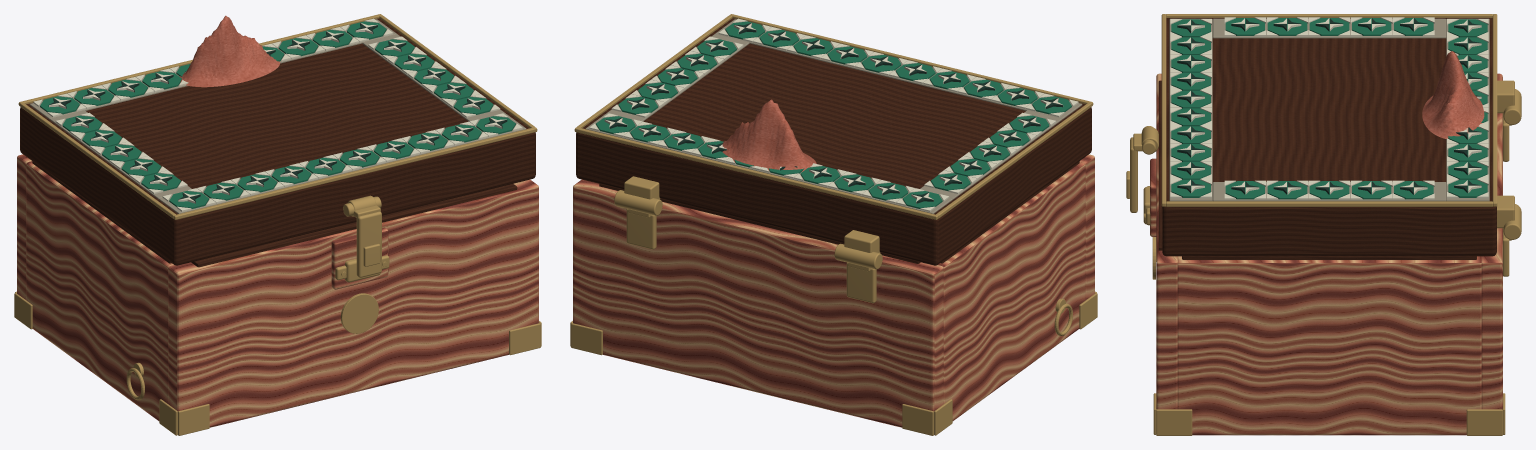
The model's file is morocco.glb.
3 renders of one model, left to right at view 1: azimuth 30°, elevation 25°; view 2: azimuth 150°, elevation 25°; view 3: azimuth 270°, elevation 25°, orthographic. The views are drawn at different scales.
Parts seen in each view (by area): view 1: Rose stone / front, Lid / polished slab, Rose stone / side, Atlas ridge / rear centre eroded massif, Rim / long, Brass / crown long, Rose stone / rear, Rose stone / clasp seat, Latch / lifting hasp, Medallion / uninscribed solid brass, Brass / crown long.001, Tile bed / long (+7 smaller); view 2: Rose stone / rear, Lid / polished slab, Rose stone / side, Atlas ridge / rear centre eroded massif, Brass / crown long.001, Rose stone / front, Brass / crown long, Tile bed / long, Brass / crown side, Tile bed / long.001, Hinge / fixed mount, Hinge / fixed mount.001 (+10 smaller); view 3: Rose stone / side.001, Lid / polished slab, Rose stone / rear, Rose stone / front, Atlas ridge / rear centre eroded massif, Brass / crown side.001, Tile bed / return, Brass / crown side, Tile bed / return.001, Rim / end.001, Brass / crown long, Brass / crown long.001 (+36 smaller).
Boxes of the visible parts, bbox=[...] form: Rose stone / front: bbox=[168, 179, 538, 427]; Lid / polished slab: bbox=[20, 18, 535, 265]; Rose stone / side: bbox=[26, 161, 173, 420]; Atlas ridge / rear centre eroded massif: bbox=[179, 15, 280, 87]; Rim / long: bbox=[191, 184, 517, 267]; Brass / crown long: bbox=[173, 127, 537, 219]; Rose stone / rear: bbox=[17, 154, 31, 299]; Rose stone / clasp seat: bbox=[331, 227, 388, 289]; Latch / lifting hasp: bbox=[356, 211, 381, 277]; Medallion / uninscribed solid brass: bbox=[340, 293, 378, 333]; Brass / crown long.001: bbox=[18, 14, 381, 106]; Tile bed / long: bbox=[159, 114, 526, 213]; Rose stone / rear: bbox=[573, 179, 943, 427]; Lid / polished slab: bbox=[576, 18, 1091, 265]; Rose stone / side: bbox=[938, 161, 1085, 420]; Atlas ridge / rear centre eroded massif: bbox=[722, 99, 816, 171]; Brass / crown long.001: bbox=[574, 127, 938, 219]; Rose stone / front: bbox=[1080, 154, 1094, 299]; Brass / crown long: bbox=[730, 14, 1093, 106]; Tile bed / long: bbox=[715, 19, 1082, 119]; Brass / crown side: bbox=[936, 103, 1091, 218]; Tile bed / long.001: bbox=[585, 114, 952, 213]; Hinge / fixed mount: bbox=[846, 262, 876, 303]; Hinge / fixed mount.001: bbox=[626, 209, 656, 249]; Rose stone / side.001: bbox=[1177, 256, 1481, 435]; Lid / polished slab: bbox=[1162, 18, 1496, 256]; Rose stone / rear: bbox=[1481, 73, 1502, 409]; Rose stone / front: bbox=[1156, 73, 1177, 409]; Atlas ridge / rear centre eroded massif: bbox=[1422, 51, 1484, 138]; Brass / crown side.001: bbox=[1166, 201, 1492, 206]; Tile bed / return: bbox=[1212, 18, 1446, 38]; Brass / crown side: bbox=[1166, 14, 1492, 17]; Tile bed / return.001: bbox=[1212, 182, 1446, 201]; Rim / end.001: bbox=[1182, 256, 1476, 259]; Brass / crown long: bbox=[1161, 14, 1166, 206]; Brass / crown long.001: bbox=[1492, 14, 1497, 206].
Size of the model in its own units: 3.81 by 2.7 by 3.28.
Materials: 8 (3 with a texture image).
